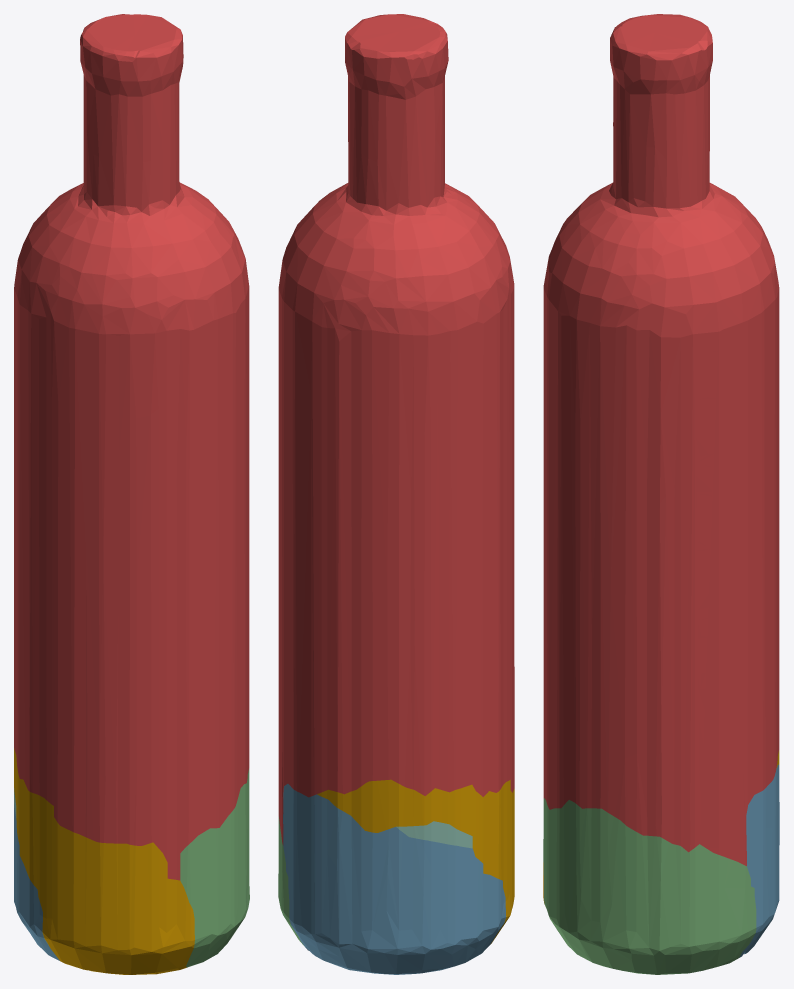
File: mode_6_6pcs.glb
3 views of the same model, side by side, from view 1: azimuth 30°, elevation 25°; view 2: azimuth 150°, elevation 25°; view 3: azimuth 270°, elevation 25° (orthographic).
Visible parts, largest first — view 1: piece_1.obj, piece_0.obj, piece_3.obj, piece_2.obj; view 2: piece_1.obj, piece_2.obj, piece_0.obj, piece_4.obj, piece_3.obj; view 3: piece_1.obj, piece_3.obj, piece_2.obj.
Boxes of the visible parts, <box> form: piece_1.obj: <box>14,14,249,880</box>; piece_0.obj: <box>14,748,194,974</box>; piece_3.obj: <box>180,768,249,967</box>; piece_2.obj: <box>14,804,59,960</box>; piece_1.obj: <box>278,14,514,845</box>; piece_2.obj: <box>283,784,505,974</box>; piece_0.obj: <box>317,779,514,944</box>; piece_4.obj: <box>396,821,472,848</box>; piece_3.obj: <box>278,817,303,945</box>; piece_1.obj: <box>543,14,779,865</box>; piece_3.obj: <box>543,798,756,974</box>; piece_2.obj: <box>739,764,779,957</box>.
Size of the model in its own units: 0.237 by 1 by 0.2368.
